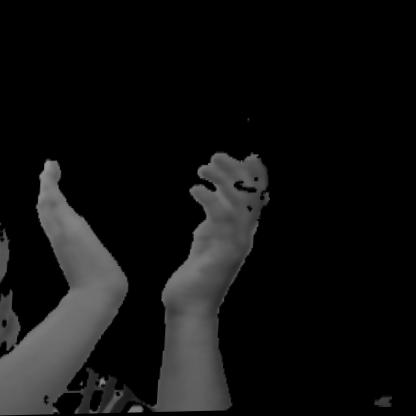clap: (14, 129, 293, 367)
